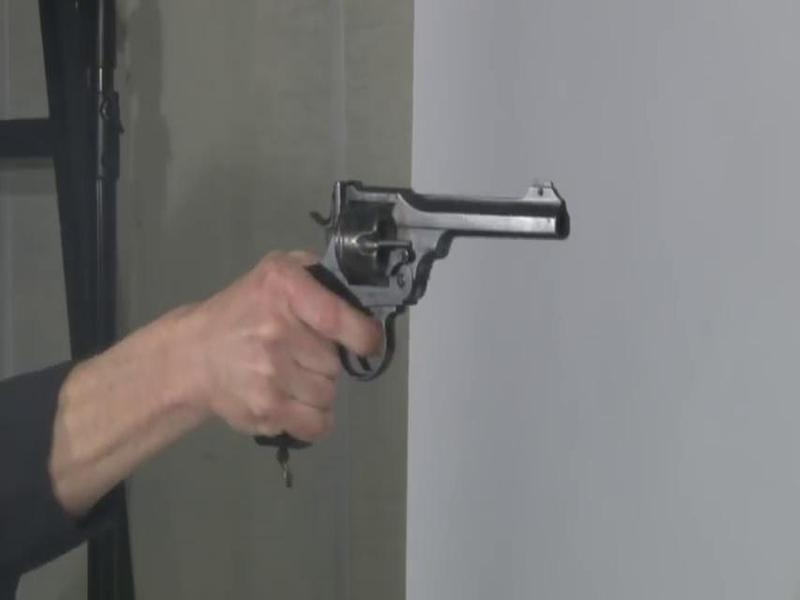Revolver: (252, 157, 627, 392)
